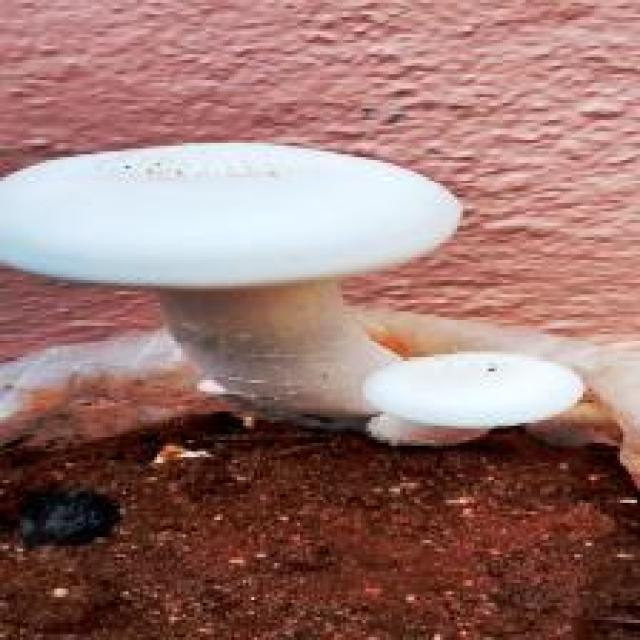field-mushroom: (0, 137, 463, 432)
